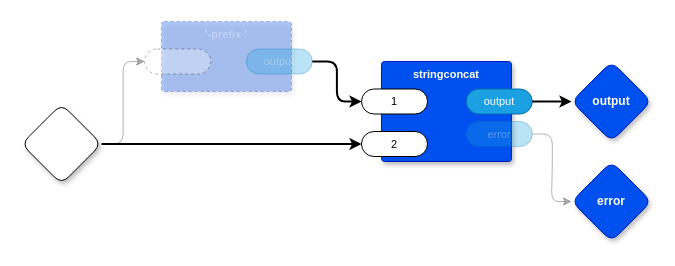
This 675x266 diagram has some shape labels left out. Here are the shapes that lost their labels. From the top down, the centre of each, then its label:
point 177,61: go
point 62,145: input
